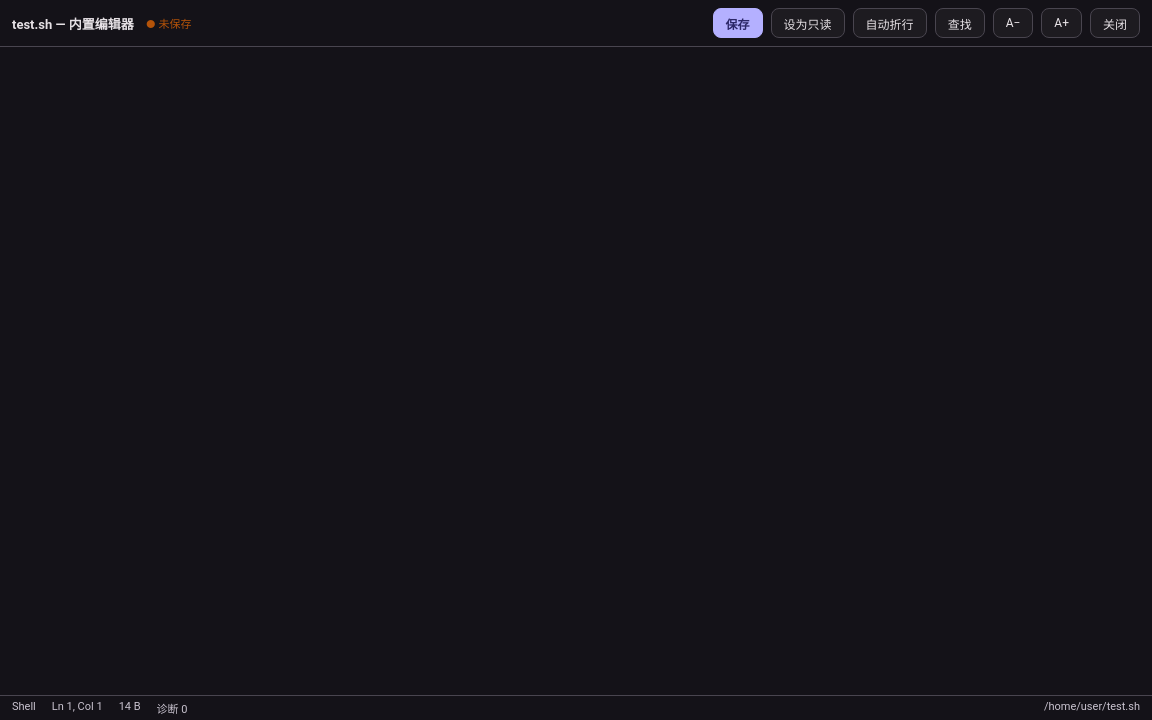
Test: EditorWindow 编辑与保存 › 保存冲突时显示冲突条与覆盖按钮，且不关闭窗口
This screenshot has width=1152, height=720.
Click the button "保存": (738, 23) x1=713 y1=8 x2=763 y2=38
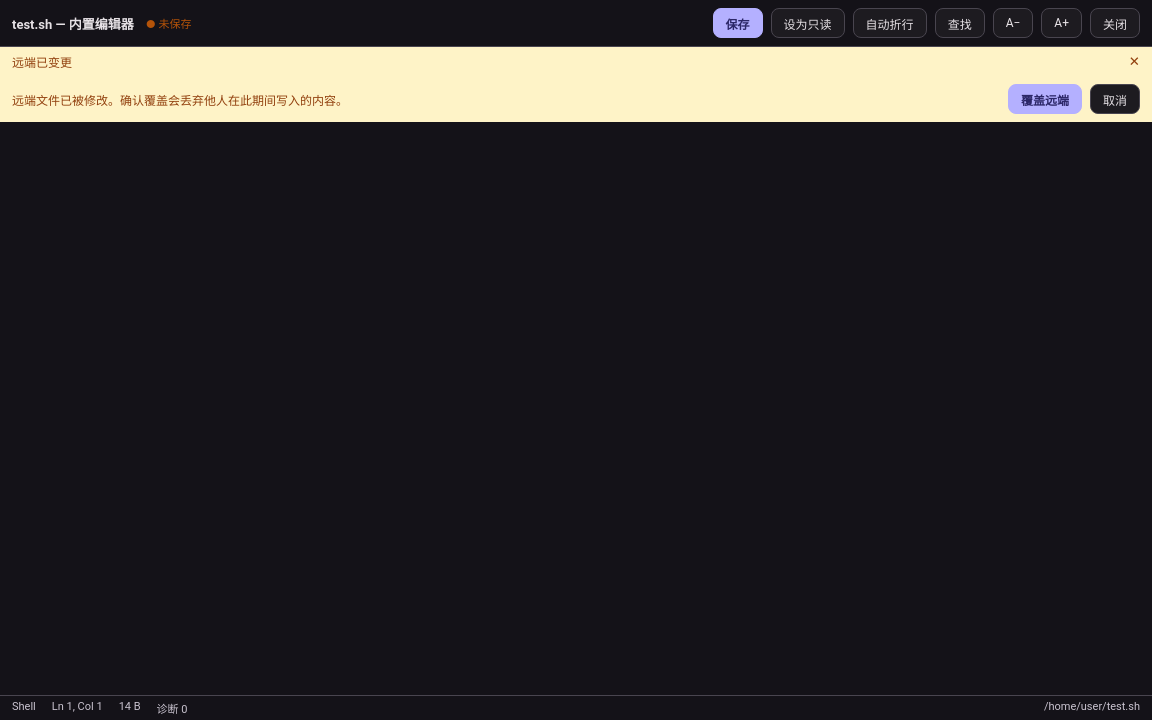
Result: the button "覆盖远端" is shown at x1=1008 y1=84 x2=1082 y2=114
Result: the text "远端已变更" is shown at x1=12 y1=56 x2=72 y2=70
